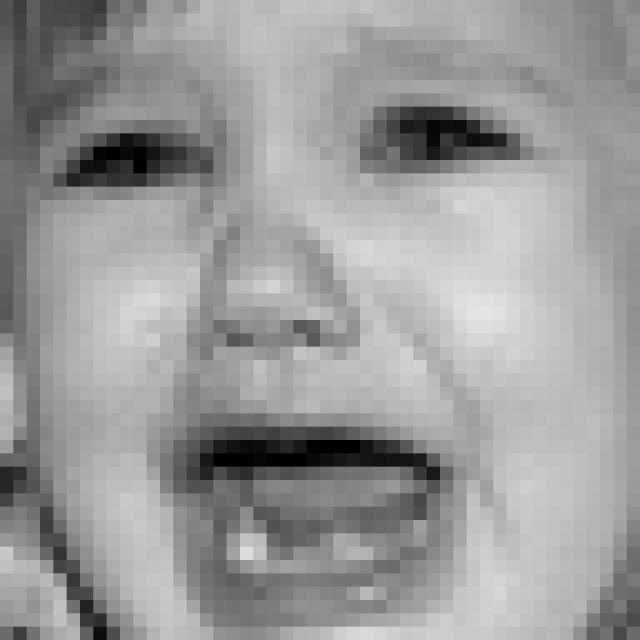sad: (33, 49, 586, 618)
